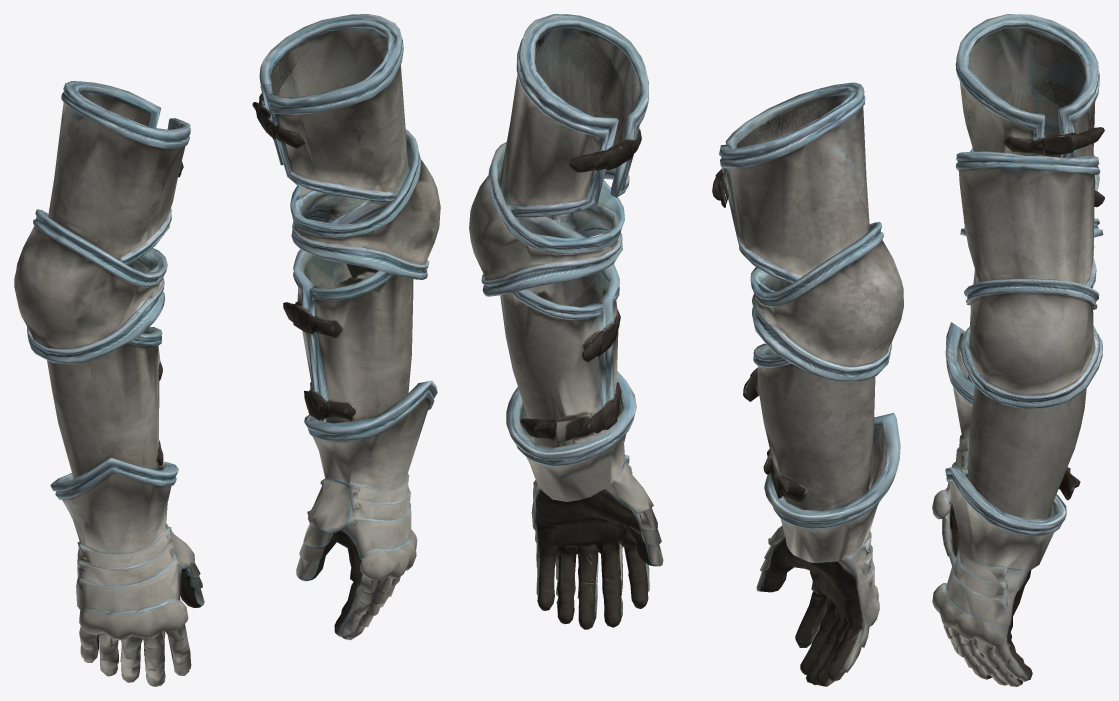
The model's file is bracciali_prima_veglia.glb.
The picture shows the model from 3 angles, left to right: view 1: azimuth 30°, elevation 25°; view 2: azimuth 150°, elevation 25°; view 3: azimuth 270°, elevation 25°; orthographic projection. The views are drawn at different scales.
Visible parts, largest first — view 1: Mesh_0; view 2: Mesh_0; view 3: Mesh_0.
Boxes of the visible parts, bbox=[...] form: Mesh_0: bbox=[14, 14, 440, 686]; Mesh_0: bbox=[469, 14, 903, 686]; Mesh_0: bbox=[932, 14, 1104, 686].
Size of the model in its own units: 1.38 by 1.9 by 0.5401.
Materials: 1 (1 with a texture image).
